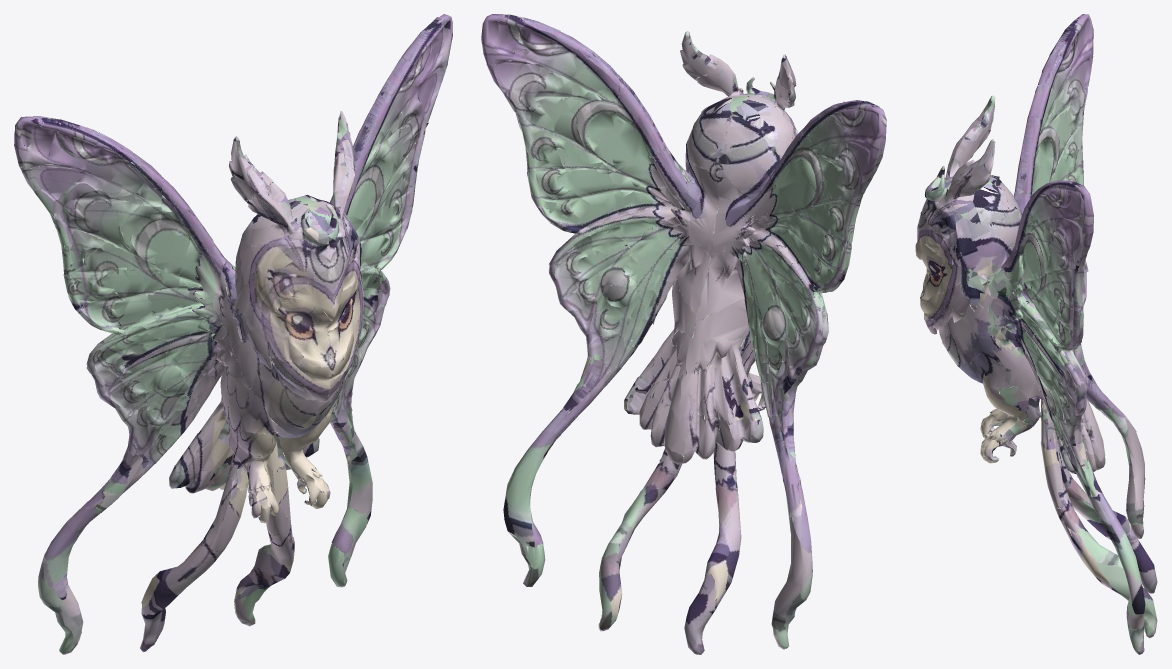
3 views of the same model, side by side, from view 1: azimuth 30°, elevation 25°; view 2: azimuth 150°, elevation 25°; view 3: azimuth 270°, elevation 25° (orthographic). The views are drawn at different scales.
Visible parts, largest first — view 1: Mesh_0; view 2: Mesh_0; view 3: Mesh_0.
Boxes of the visible parts, x1,y1,x2,y2 form: Mesh_0: [14, 14, 452, 654]; Mesh_0: [481, 14, 886, 654]; Mesh_0: [915, 14, 1157, 654].
Size of the model in its own units: 1.45 by 1.9 by 0.8117.
1 material, 1 textured.
